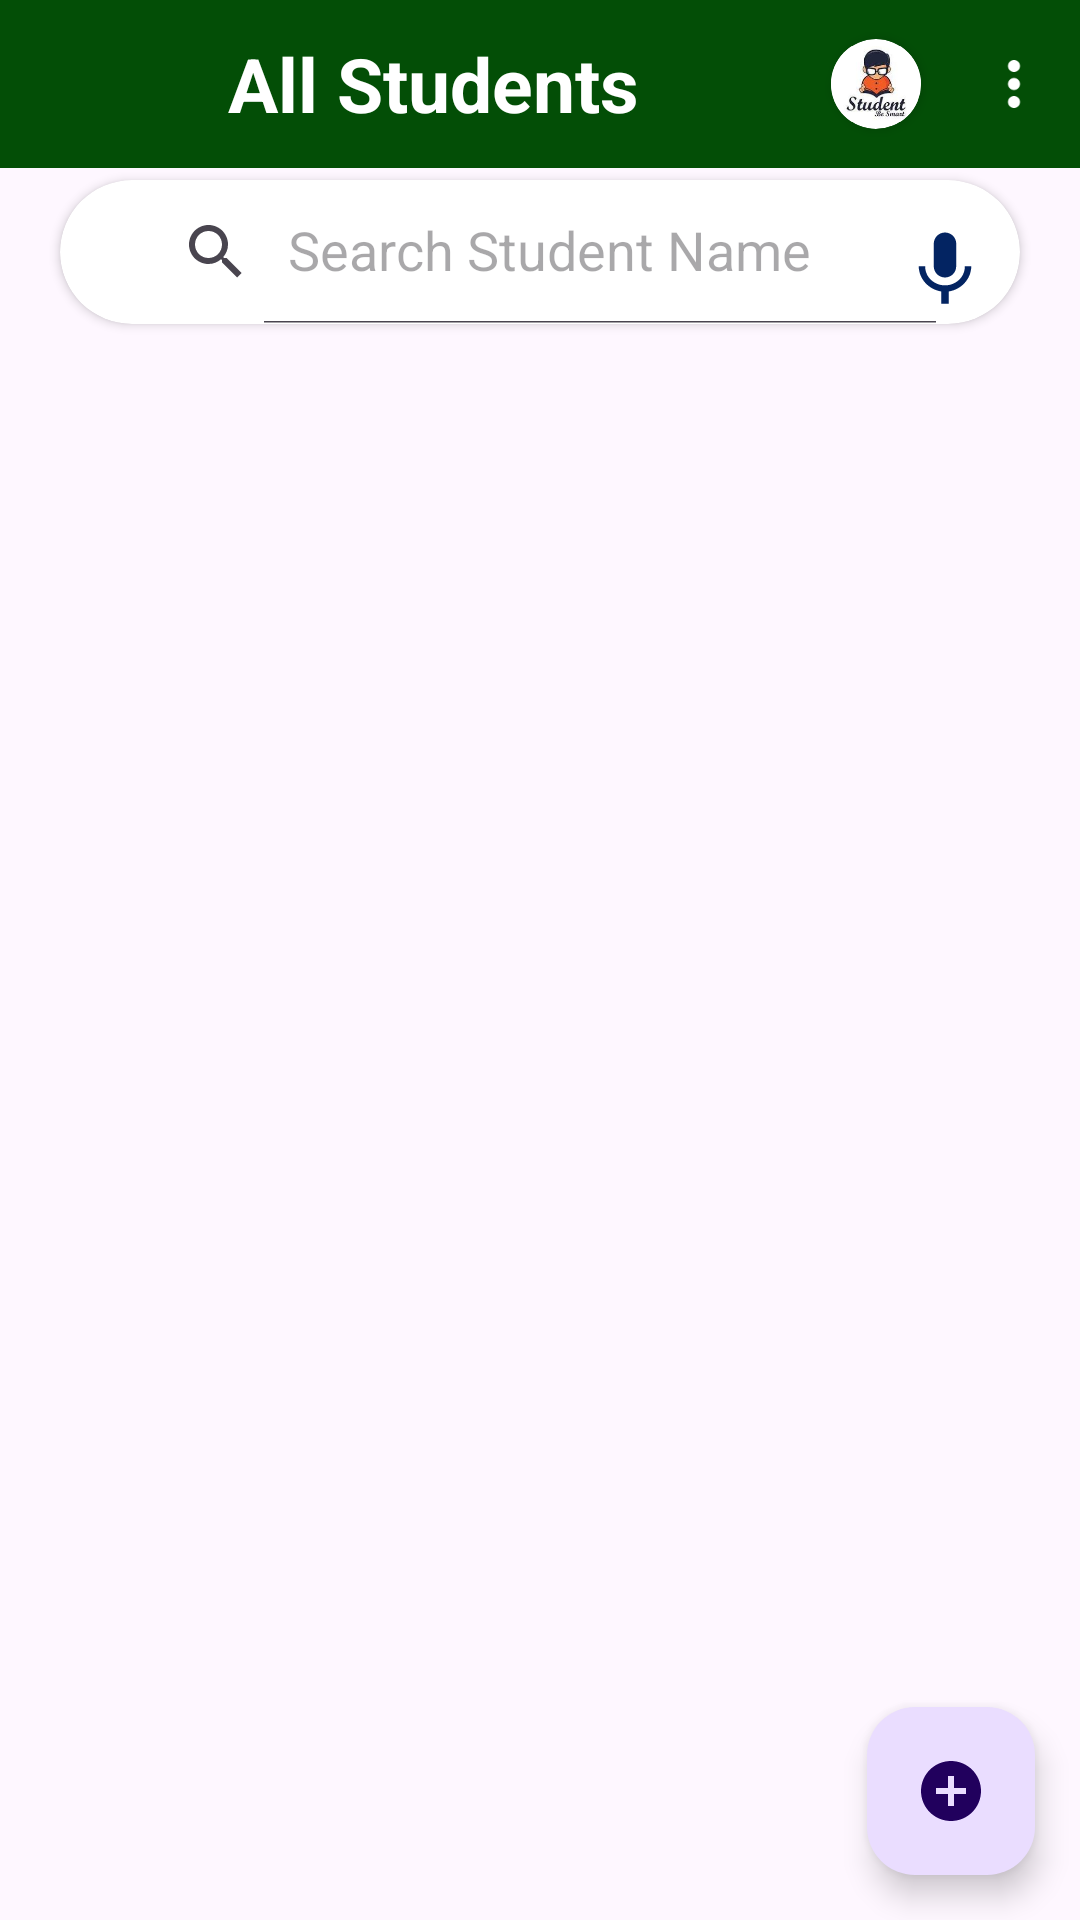

Icon bounding boxes for this 1080×1920 phone screenshot, format (x1, y1, x2, y2):
add circle: (867, 1707, 1035, 1875)
mic: (918, 232, 972, 304)
